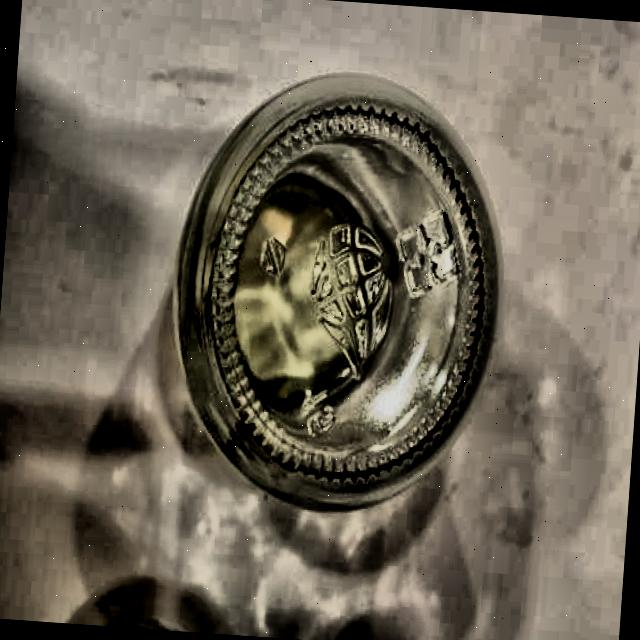glass: (150, 52, 520, 530)
